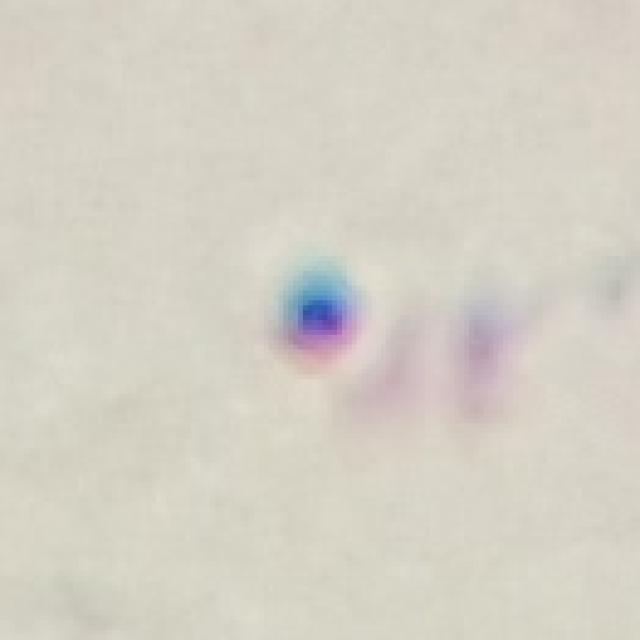non-sperm: (279, 258, 366, 360)
